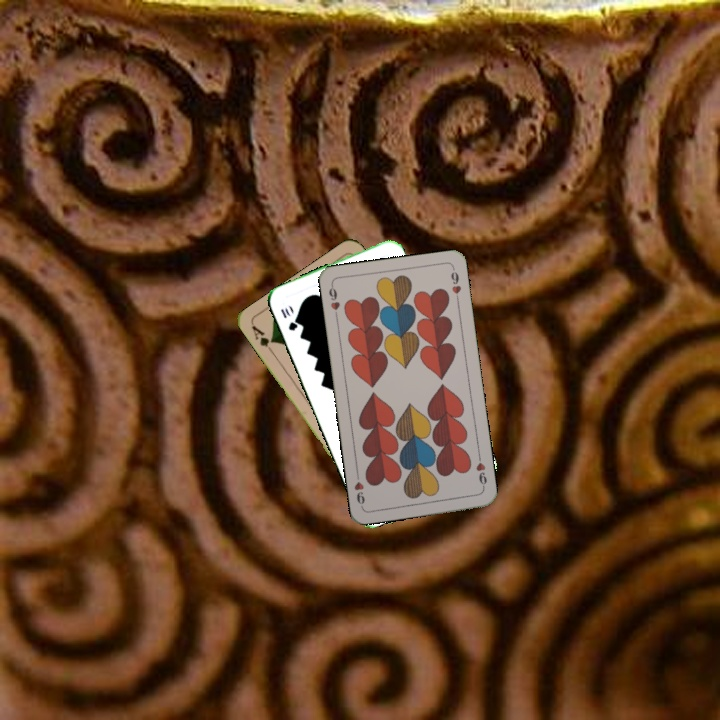G10: (277, 304, 300, 333)
GA: (248, 321, 277, 357)
H9: (472, 451, 490, 492), (325, 281, 342, 321)
